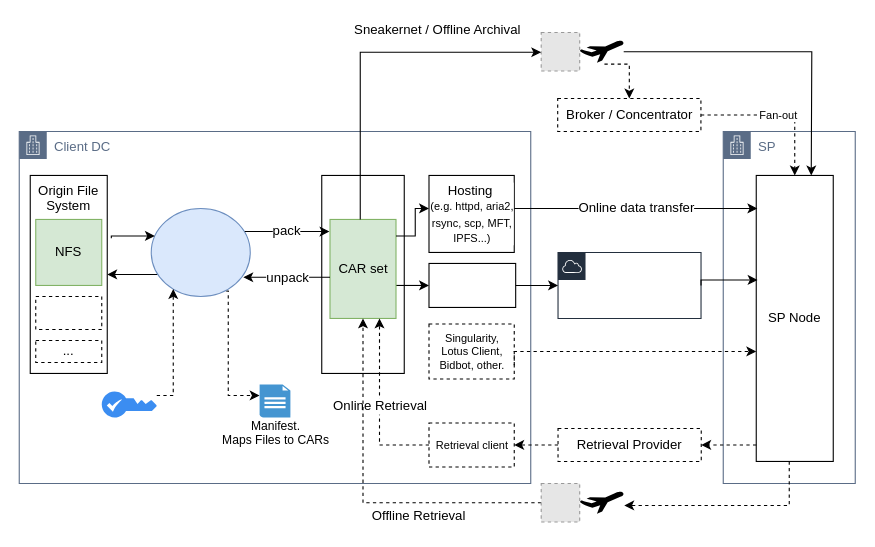
This 875x547 diagram has some shape labels left out. Grey dashed boxes stand in for pictures. Here are the shapes that lost their labels. From the top down, the box of each, then its label:
(150, 207, 250, 296): Packer
(321, 174, 404, 373): Staging File System
(428, 262, 516, 307): API client
(557, 251, 701, 318): Gateway (Estuary, web3/nft.storage...)
(35, 295, 102, 329): S3
(101, 391, 156, 417): Encryption Key
